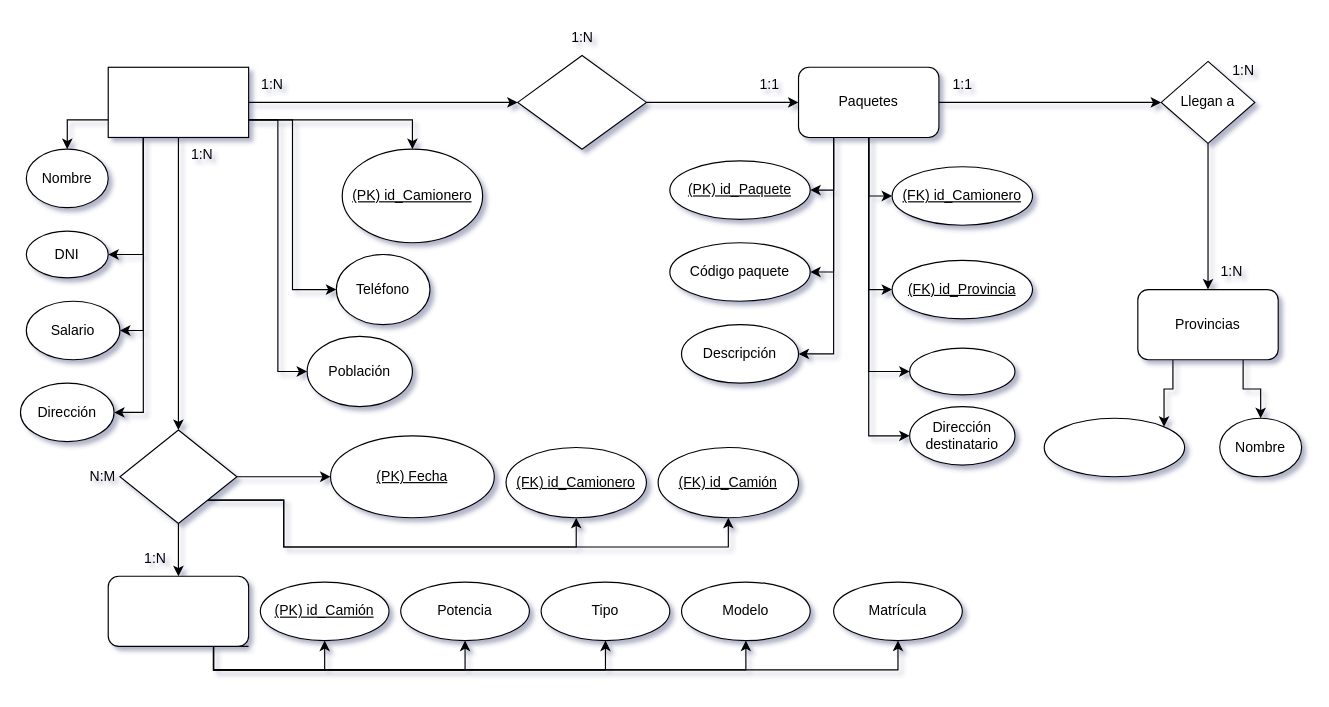
Some shapes in this 1329 by 707 pixel diagram are drawn without their labels. The shapes that lost their labels are listed below. From the top down, each one's centre as x and y in pixels, then its label:
At (x=178, y=101): "Camioneros".
At (x=581, y=101): "Distribuyen".
At (x=962, y=371): "Destinatario".
At (x=1114, y=447): "(PK) id_Provincia".
At (x=178, y=476): "Conducen".
At (x=178, y=610): "Camiones".
